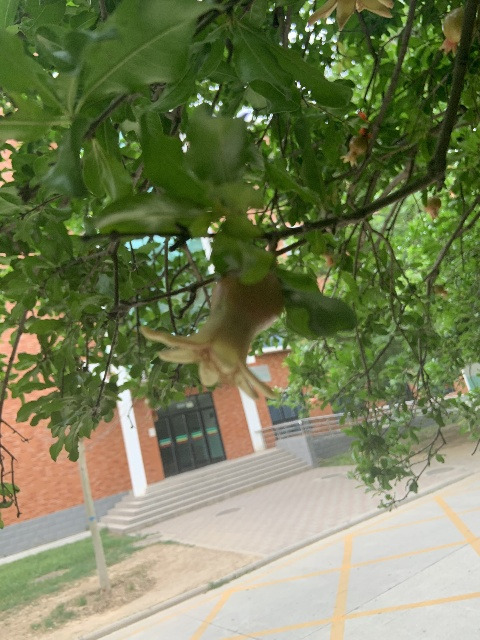early-fruit: (138, 267, 285, 396), (338, 135, 369, 166)
mid-growth: (440, 6, 476, 57), (422, 196, 441, 219)
